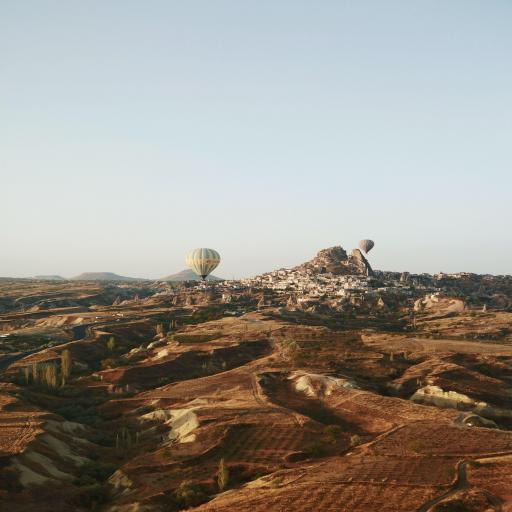hot air ballon: (185, 248, 221, 281), (358, 239, 374, 254)
